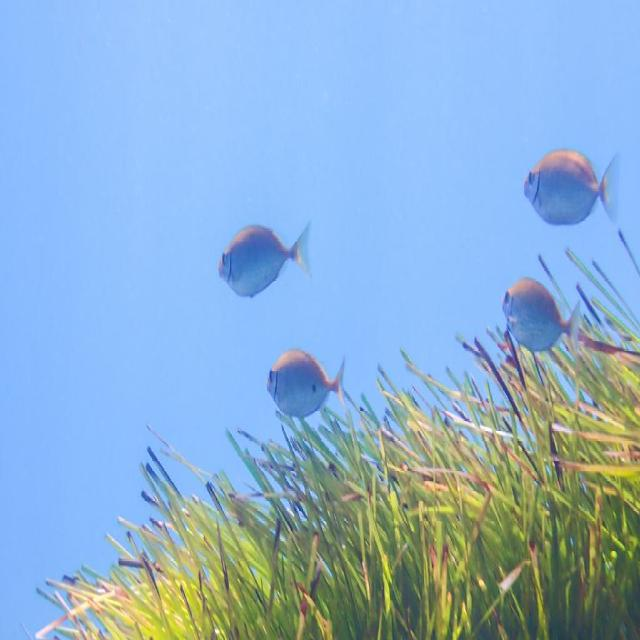Sokar Baligi: (517, 132, 629, 245), (496, 256, 588, 376), (214, 209, 321, 309), (260, 329, 356, 438)
